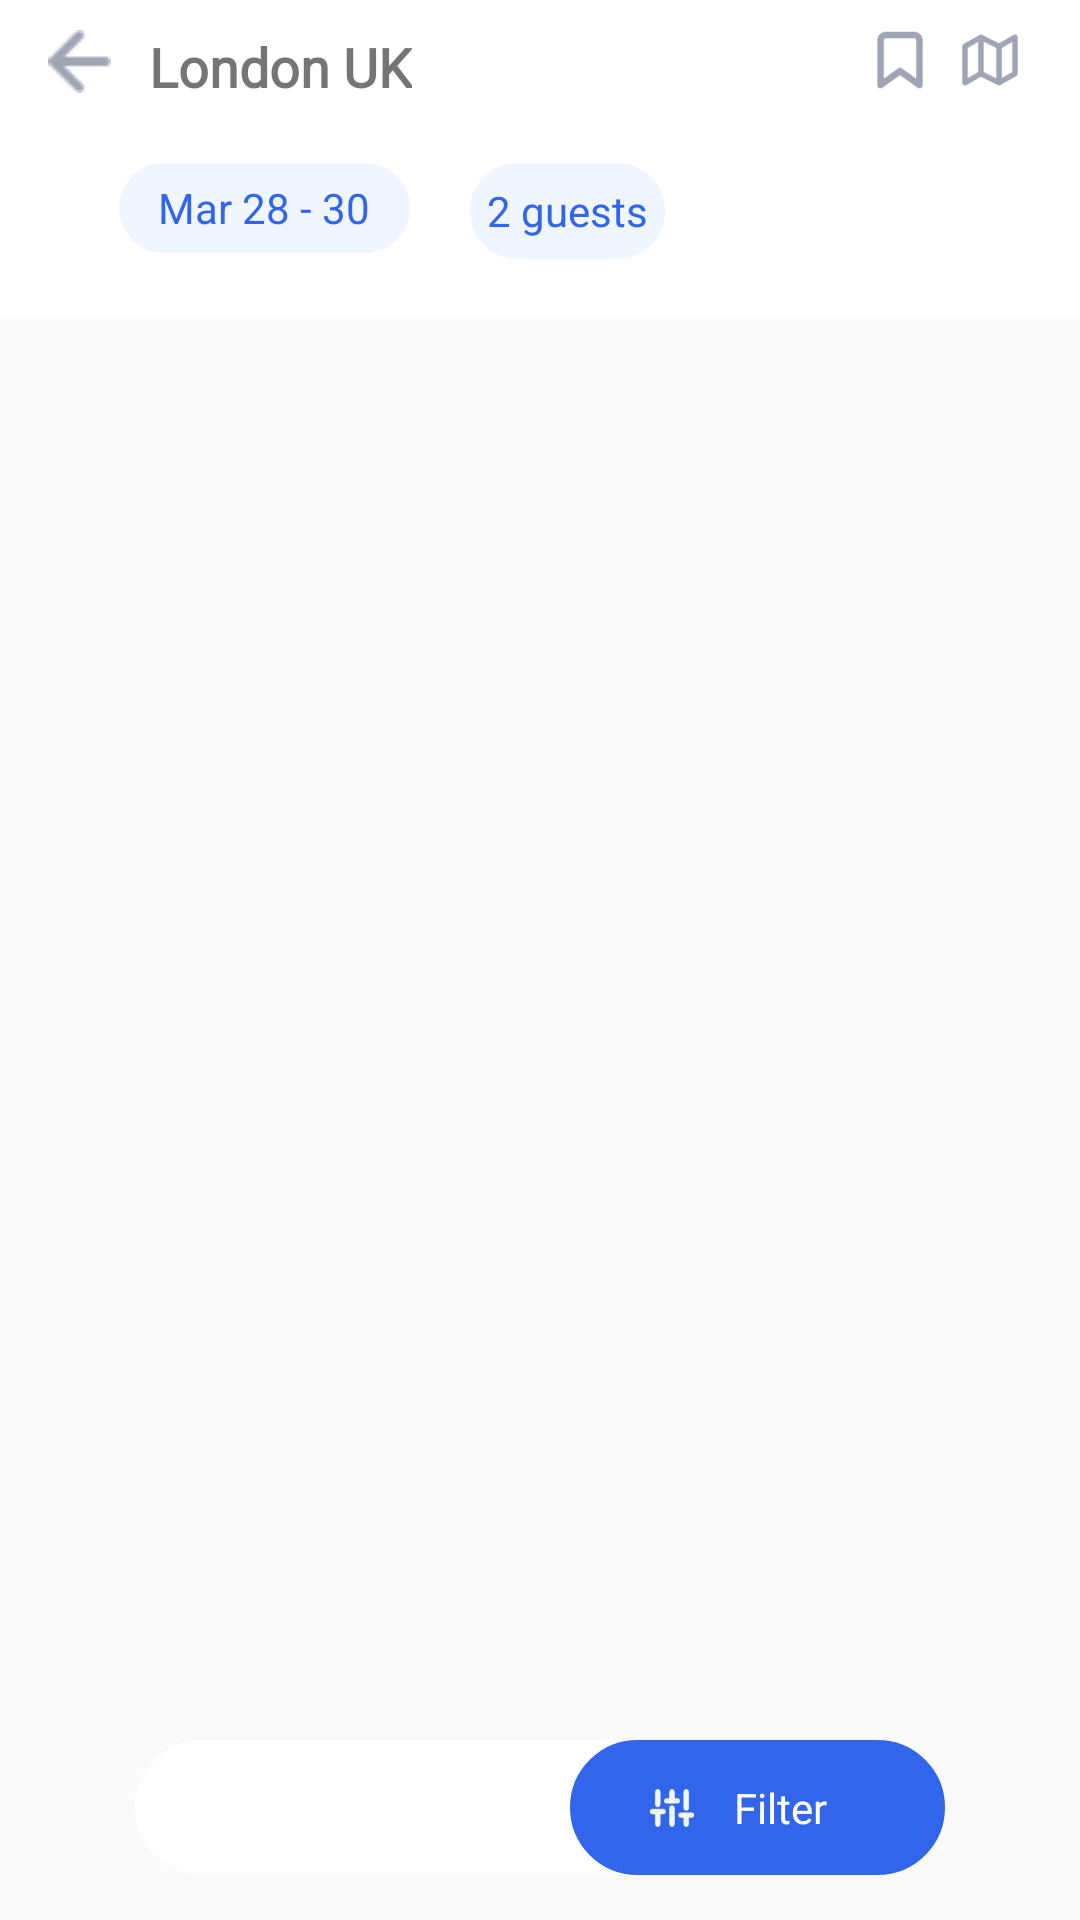

Screen size 1080 × 1920. Icon name, then its center in pixels as point (x, y):
feather arrow left: point (79, 61)
feather bookmark: point (900, 60)
feather map: point (990, 60)
feather sliders: point (672, 1808)
